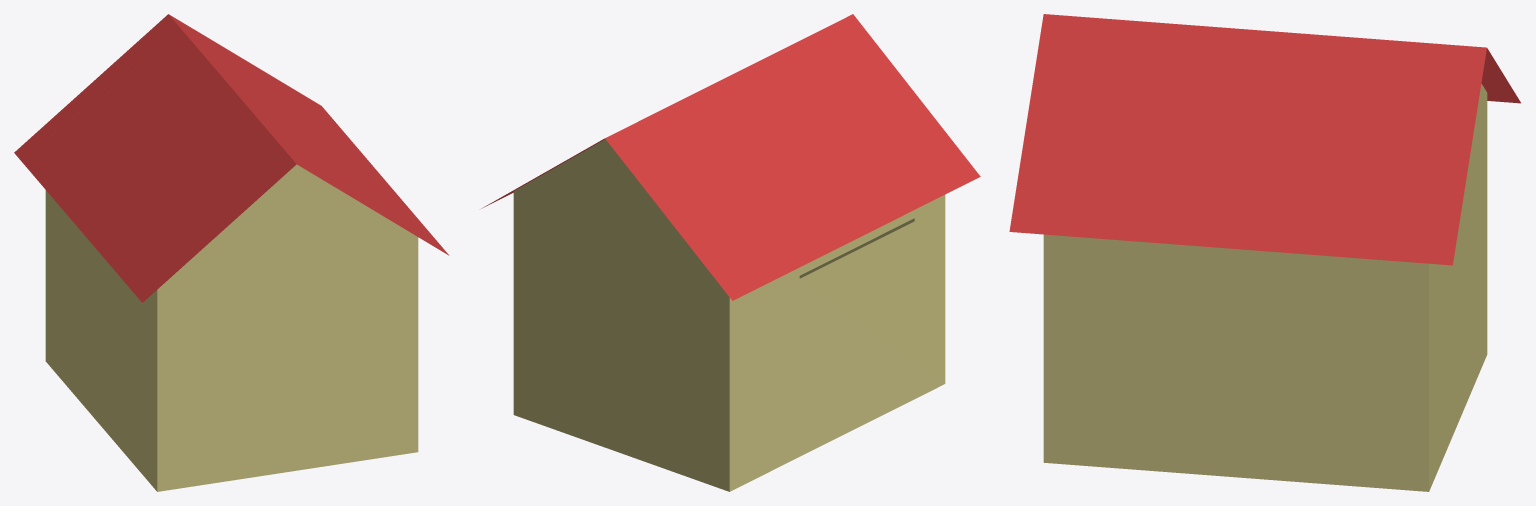
3 views of the same model, side by side, from view 1: azimuth 30°, elevation 25°; view 2: azimuth 150°, elevation 25°; view 3: azimuth 270°, elevation 25° (orthographic). The views are drawn at different scales.
Bounding box in the file's own units: 11.8 × 13.05 × 10.63.
